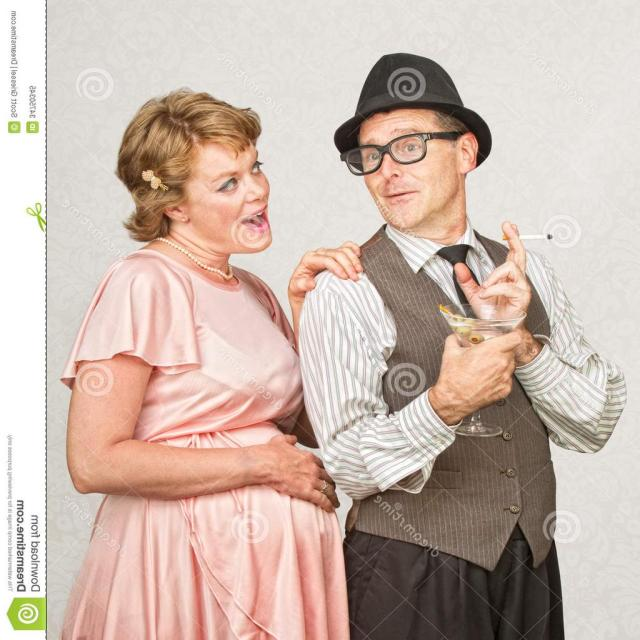smoking: (326, 51, 584, 292)
